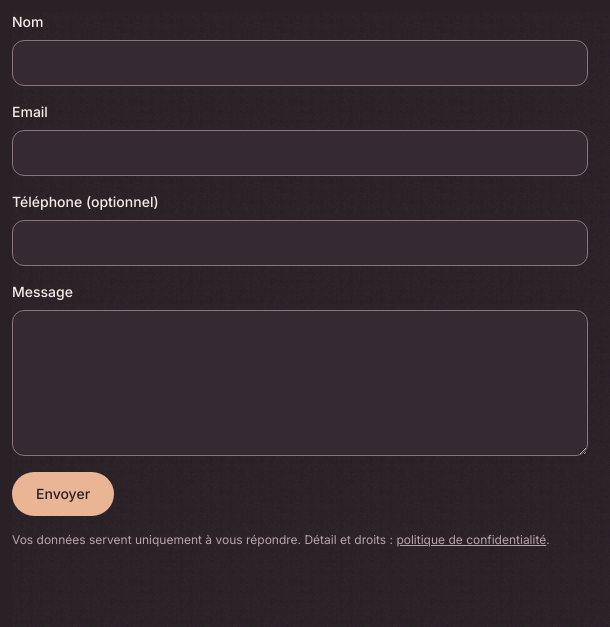
Scenario: ContactForm › garde la saisie quand le serveur refuse l'envoi
The width and height of the screenshot is (610, 627).
Step 1. Type "Jean Dupont" into the field labelled "Nom" → (300, 63), box [12, 40, 588, 86]
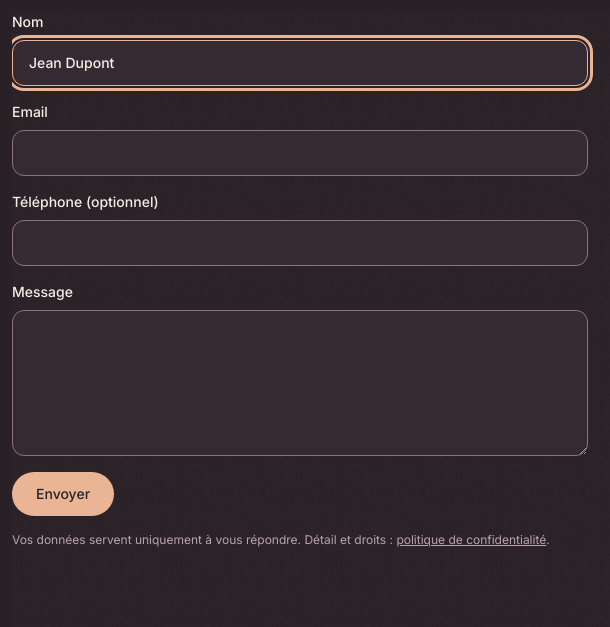
Step 2. Type "jean@exemple.fr" into the field labelled "Email" → (300, 153), box [12, 130, 588, 176]
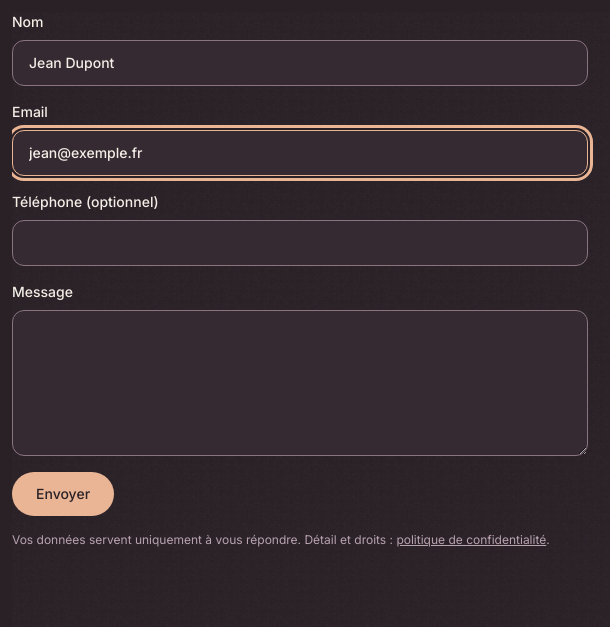
Step 3. Type "0612345678" into the field labelled "Téléphone (optionnel)" → (300, 243), box [12, 220, 588, 266]
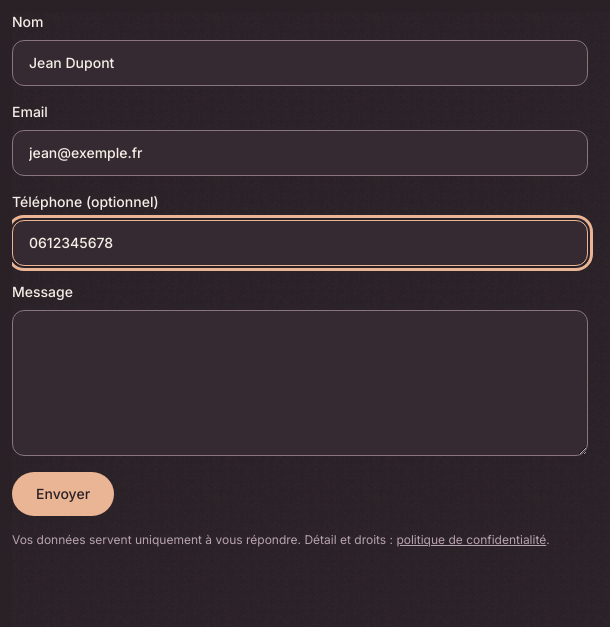
Step 4. Type "Un long message à ne pas perdre." into the text box labelled "Message" → (300, 383), box [12, 310, 588, 456]
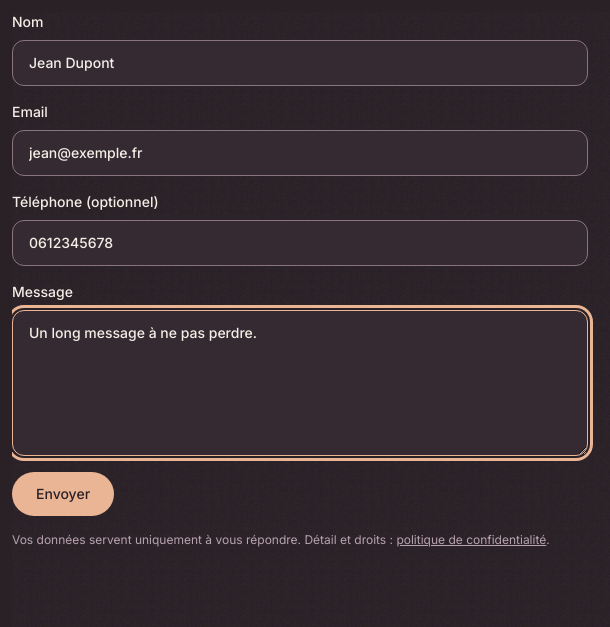
Step 5. Click the button "Envoyer" → (63, 494), box [12, 472, 114, 516]
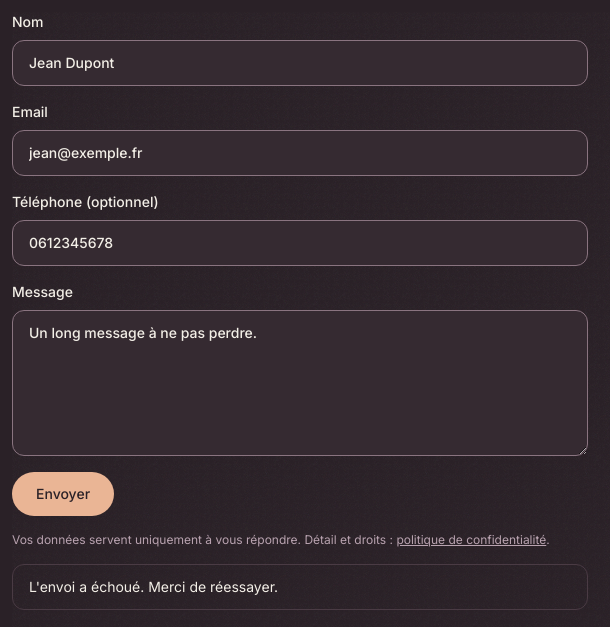
expect the message shows "réessayer": met, box [29, 578, 278, 595]
